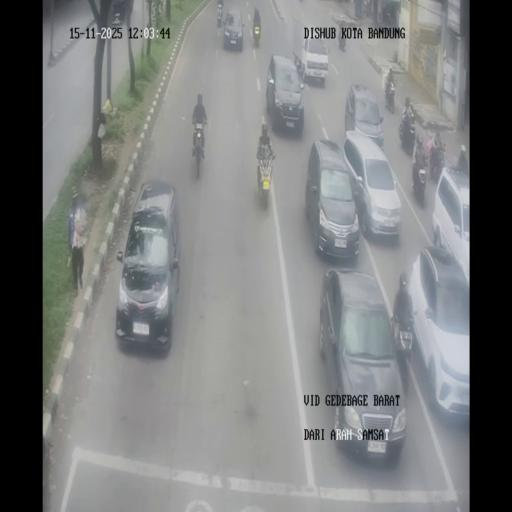car: (320, 271, 405, 460), (114, 181, 182, 351), (406, 247, 469, 424), (343, 132, 402, 241), (266, 54, 304, 135), (344, 82, 384, 149), (300, 35, 328, 85), (223, 8, 244, 51)
motorcycle: (392, 312, 414, 384), (256, 142, 274, 207), (191, 120, 207, 178), (399, 112, 416, 153), (412, 160, 427, 206), (430, 144, 446, 184), (385, 82, 395, 112), (252, 20, 261, 46), (216, 0, 224, 28), (338, 29, 346, 52), (382, 6, 392, 24), (362, 0, 370, 18), (387, 68, 394, 87), (378, 8, 383, 23)
